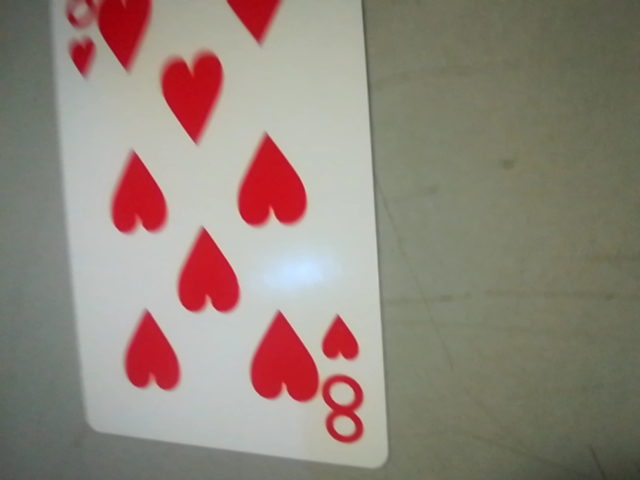hx 8: (312, 305, 379, 454)
